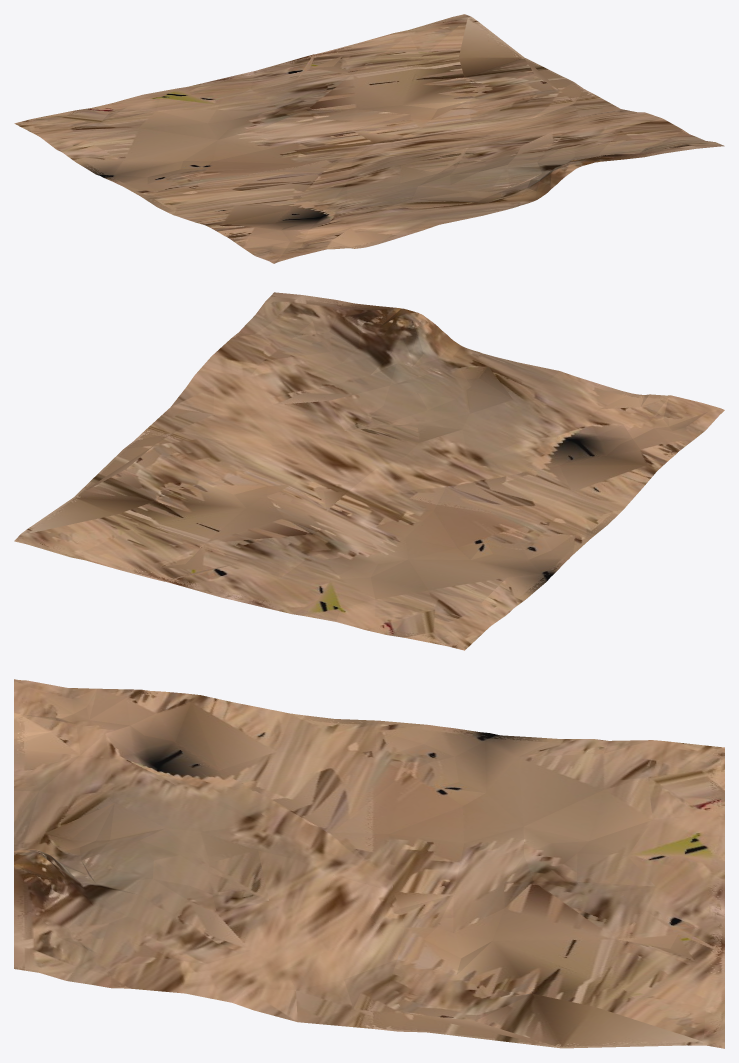
The picture shows the model from 3 angles, top to bottom: view 1: azimuth 30°, elevation 25°; view 2: azimuth 150°, elevation 25°; view 3: azimuth 270°, elevation 25°; orthographic projection. The views are drawn at different scales.
Bounding box in the file's own units: 2.09 × 0.3528 × 2.09.
Materials: 2 (2 with a texture image).
